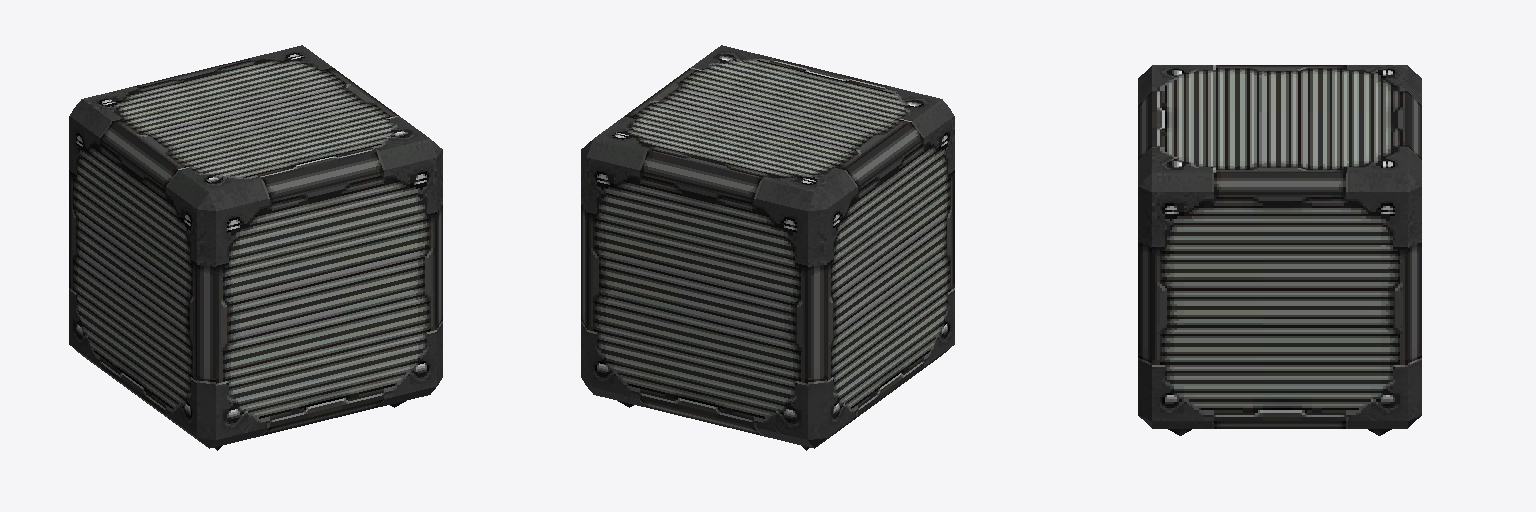
The picture shows the model from 3 angles: view 1: azimuth 30°, elevation 25°; view 2: azimuth 150°, elevation 25°; view 3: azimuth 270°, elevation 25°; orthographic projection.
Parts seen in each view (by area): view 1: polygon0; view 2: polygon0; view 3: polygon0.
Part boxes in pixels (x1,y1,x2,y2): polygon0: (69, 45, 442, 450); polygon0: (581, 45, 954, 450); polygon0: (1138, 65, 1421, 435).
Bounding box in the file's own units: 18.73 × 19.99 × 18.74.
1 materials, 1 textured.